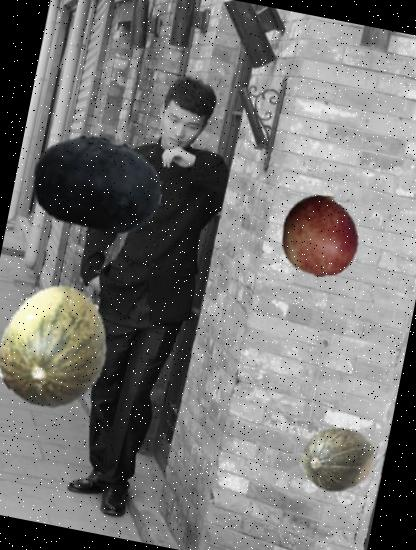Blueberry: (20, 105, 175, 260)
Melon: (0, 278, 124, 419), (292, 418, 380, 506)
Nectarine: (272, 188, 368, 284)
